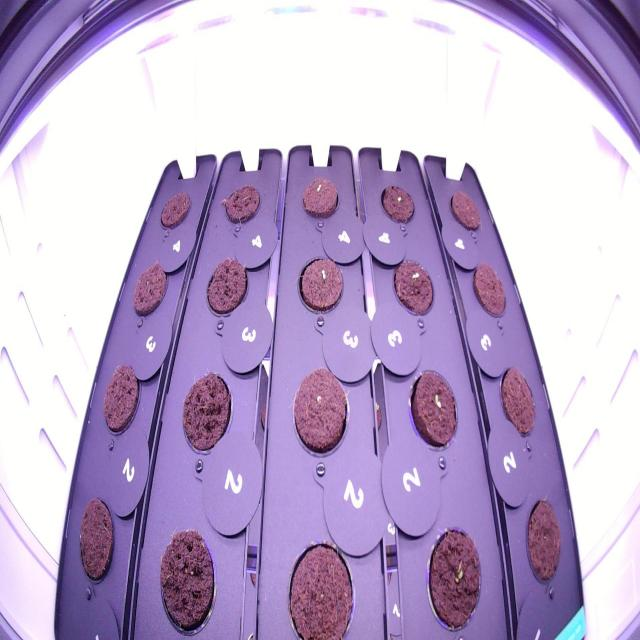germination: (404, 357, 462, 460), (292, 247, 348, 321), (387, 255, 438, 325), (295, 166, 343, 227)
pod: (148, 518, 223, 637), (279, 529, 359, 639), (422, 516, 489, 636), (286, 358, 352, 466), (176, 361, 238, 464), (73, 491, 120, 592), (523, 488, 565, 594), (200, 246, 253, 327), (99, 352, 144, 442), (494, 356, 540, 444), (126, 250, 174, 322), (468, 253, 510, 326), (216, 170, 262, 234), (376, 175, 421, 232), (445, 182, 486, 242), (155, 180, 194, 239)
